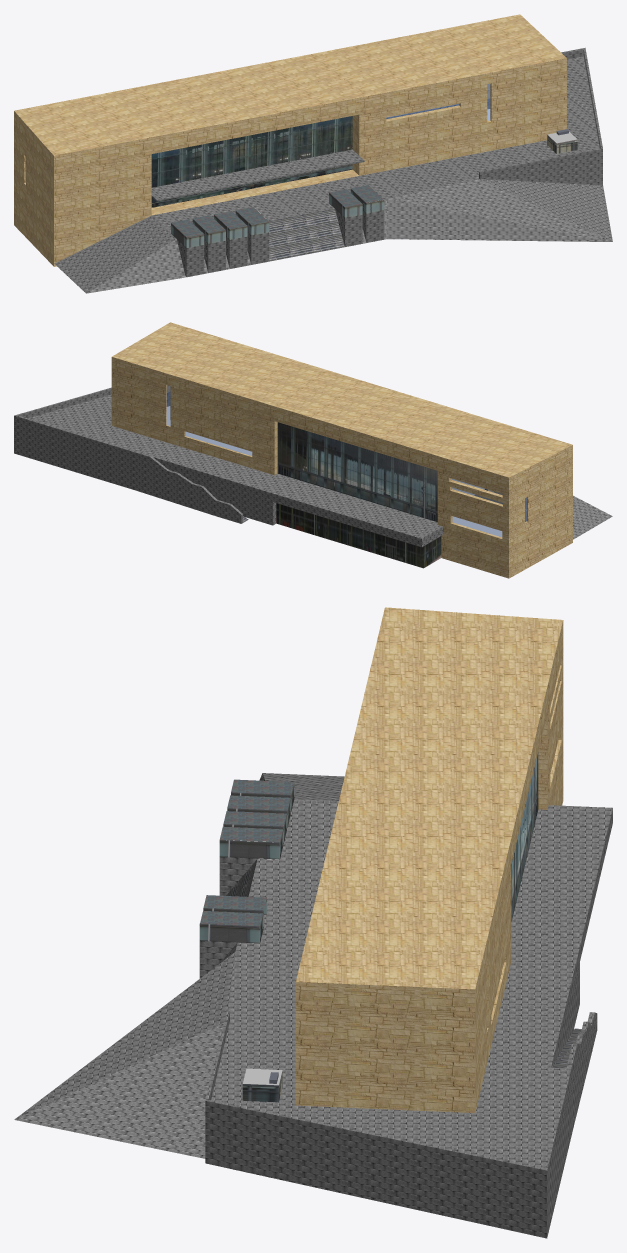
The picture shows the model from 3 angles, top to bottom: view 1: azimuth 30°, elevation 25°; view 2: azimuth 150°, elevation 25°; view 3: azimuth 270°, elevation 25°; orthographic projection. The views are drawn at different scales.
Visible parts, largest first — view 1: Model; view 2: Model; view 3: Model.
Part boxes in pixels (x1,y1,x2,y2): Model: [14, 14, 612, 293]; Model: [14, 322, 612, 578]; Model: [14, 607, 612, 1238].
Size of the model in its own units: 211 by 117 by 39.64.
